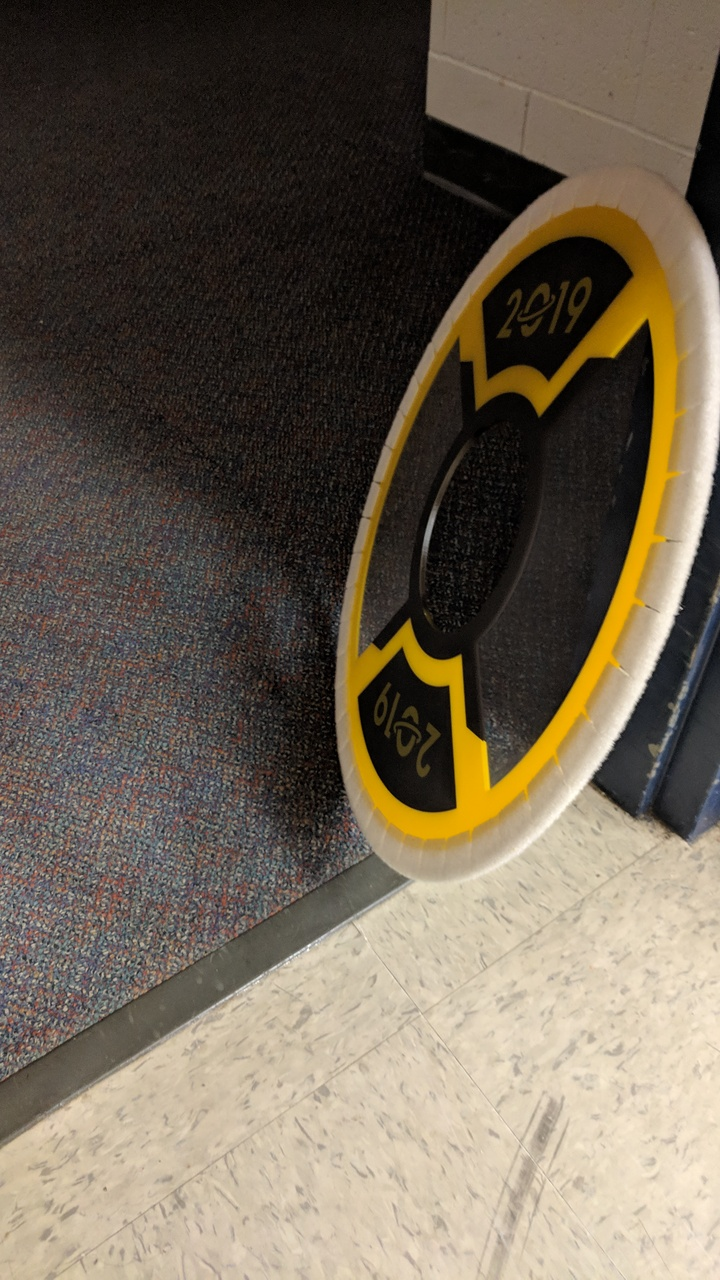hatch_panel: (319, 162, 720, 900)
